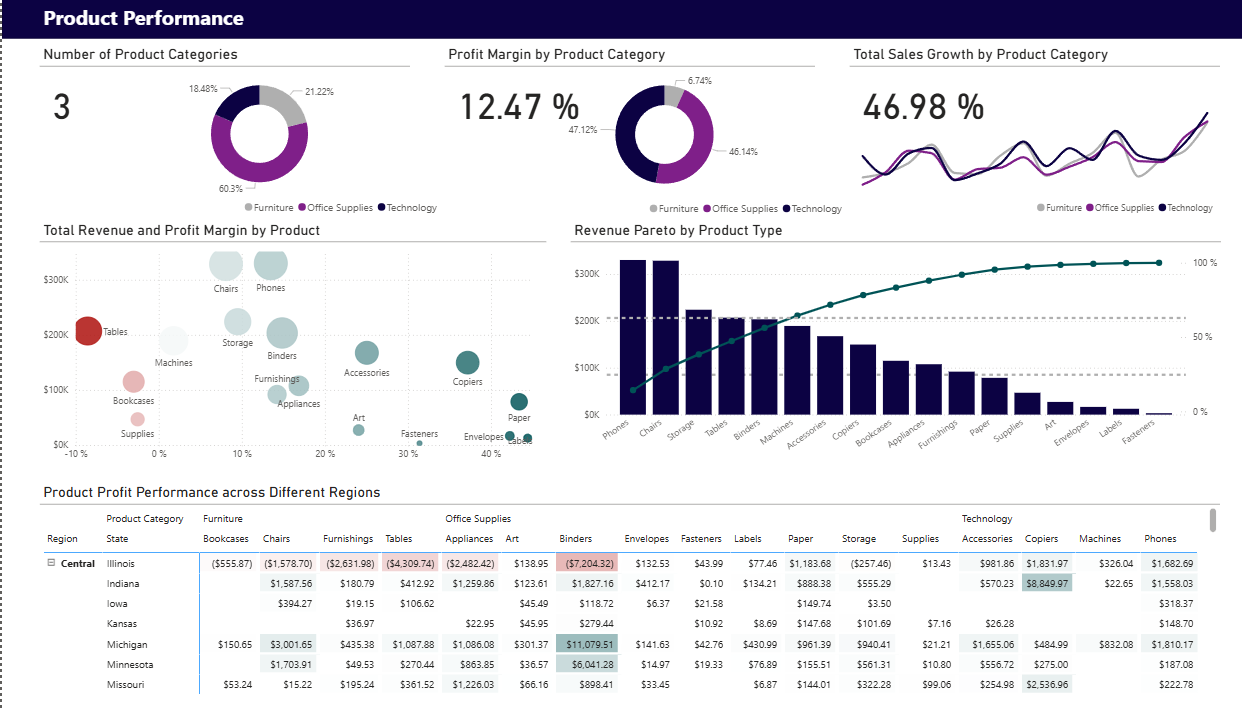

What the dashboard file says about the page in this screenshot:
{"tool":"powerbi","page":{"name":"Product Performance","canvas":[1655,951],"ordinal":3},"visuals":[{"type":"shape","box":[0,0,1655.5,52.7],"z":0},{"type":"scatterChart","title":"Total Revenue and Profit Margin by Product","fields":{"Category":["DimProduct.Category Hierarchy.Product Category","DimProduct.Category Hierarchy.Product Type"],"X":["MeasureTable.Profit Margin %"],"Size":["MeasureTable.Total Sales"],"Y":["MeasureTable.Total Revenue"]},"box":[50,295,676,328],"z":1000},{"type":"pivotTable","title":"Product Profit Performance across Different Regions","fields":{"Columns":["DimProduct.Category Hierarchy.Product Category","DimProduct.Category Hierarchy.Product Type"],"Values":["MeasureTable.Total Profit"],"Rows":["DimLocation.Location Hierarchy.Region","DimLocation.Location Hierarchy.State"]},"box":[50,646,1574,284],"z":2000},{"type":"lineClusteredColumnComboChart","title":"Revenue Pareto by Product Type","fields":{"Y":["MeasureTable.Total Revenue"],"Category":["DimProduct.Product Type"],"Y2":["MeasureTable.Cumulative Revenue %","MeasureTable.Cumulative Product %"]},"box":[757.5,295,867.5,327.5],"z":3000},{"type":"textbox","box":[50,0,350,52.9],"z":4000},{"type":"cardVisual","title":"Number of Orders by Product Category","fields":{"Data":["MeasureTable.Number of Orders"],"Rows":["DimProduct.Product Category"]},"box":[50,62,494,218],"z":5000},{"type":"cardVisual","title":"Total Sales Growth by Product Category","fields":{"Data":["MeasureTable.Total Sales Growth (%)"]},"box":[1130,62,494,218],"z":6000},{"type":"cardVisual","title":"Profit Margin by Product Category","fields":{"Data":["MeasureTable.Profit Margin %"]},"box":[590,62,494,234],"z":7000},{"type":"donutChart","fields":{"Category":["DimProduct.Product Category"],"Y":["MeasureTable.Profit Margin %"]},"box":[636,92,494,206],"z":8000},{"type":"lineChart","fields":{"Y":["MeasureTable.Total Sales by Category"],"Category":["DimCalendar.Date Hierarchy.Year","DimCalendar.Date Hierarchy.Quarter"],"Series":["DimProduct.Product Category"]},"box":[1130,120,494,176],"z":9000}]}

Visuals, with their boxes in screenshot pixels (x1, y1, x2, y2), scaled from the page's 1655x951 canvas onto the 1242x708 screenshot:
shape: [0,0,1241,39]
"Total Revenue and Profit Margin by Product" scatterChart: [38,220,545,464]
"Product Profit Performance across Different Regions" pivotTable: [38,481,1219,692]
"Revenue Pareto by Product Type" lineClusteredColumnComboChart: [568,220,1219,463]
textbox: [38,0,300,39]
"Number of Orders by Product Category" cardVisual: [38,46,408,208]
"Total Sales Growth by Product Category" cardVisual: [848,46,1219,208]
"Profit Margin by Product Category" cardVisual: [443,46,813,220]
donutChart - DimProduct.Product Category x MeasureTable.Profit Margin %: [477,68,848,222]
lineChart - MeasureTable.Total Sales by Category x DimCalendar.Date Hierarchy.Year: [848,89,1219,220]
